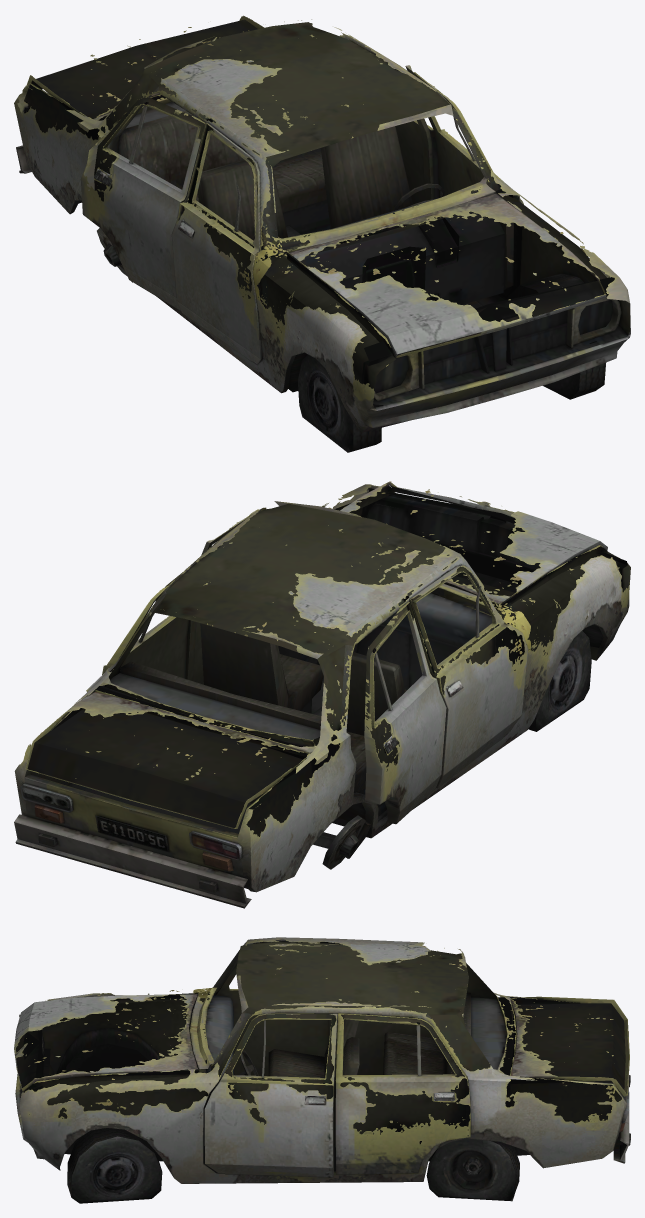
File: car003a.fbx
3 views of the same model, one above another, from view 1: azimuth 30°, elevation 25°; view 2: azimuth 150°, elevation 25°; view 3: azimuth 270°, elevation 25° (orthographic). The views are drawn at different scales.
Parts seen in each view (by area): view 1: studiomesh_9; view 2: studiomesh_9; view 3: studiomesh_9.
Boxes of the visible parts, x1,y1,x2,y2 form: studiomesh_9: (14, 15, 630, 452); studiomesh_9: (14, 481, 630, 908); studiomesh_9: (14, 937, 630, 1203).
Size of the model in its own units: 81.69 by 60.8 by 182.
